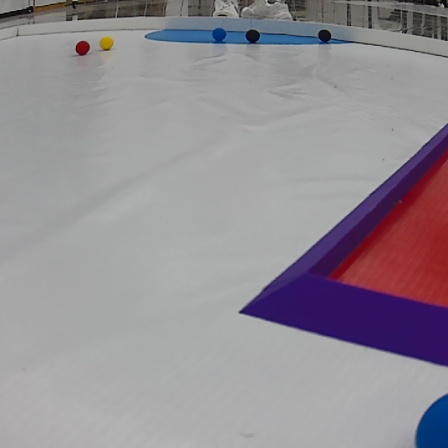black: (244, 27, 261, 44), (318, 28, 332, 43)
blue: (411, 392, 448, 448), (214, 27, 226, 41)
blue_base: (139, 26, 356, 48)
red: (73, 39, 91, 56)
red_aim: (213, 105, 448, 368)
yellow: (99, 37, 116, 51)
